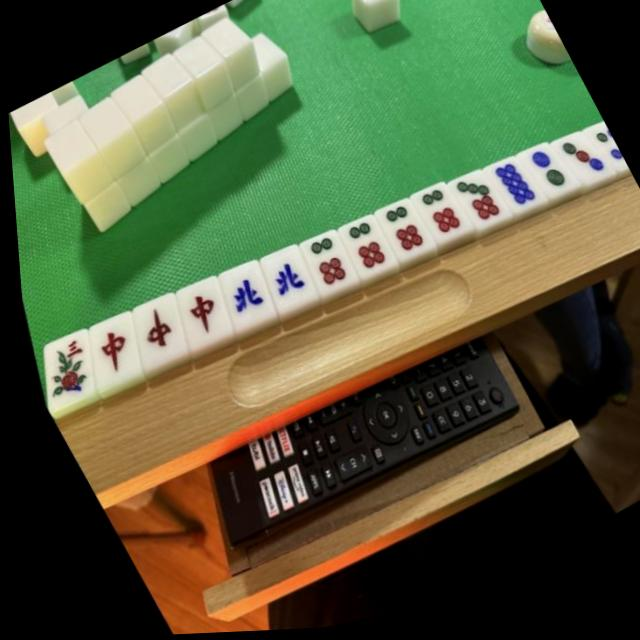bs3: (18, 312, 116, 427)
hdr: (51, 298, 157, 410), (103, 282, 203, 386), (152, 268, 238, 359)
hwn: (197, 253, 279, 338), (244, 242, 319, 319)
sd2: (505, 141, 582, 219)
sd3: (539, 129, 617, 206)
sd4: (571, 125, 630, 196)
sd6: (278, 224, 364, 313), (318, 209, 403, 297), (357, 192, 438, 277), (395, 177, 475, 261)
sd7: (431, 164, 514, 250)
sd8: (469, 151, 550, 234)
